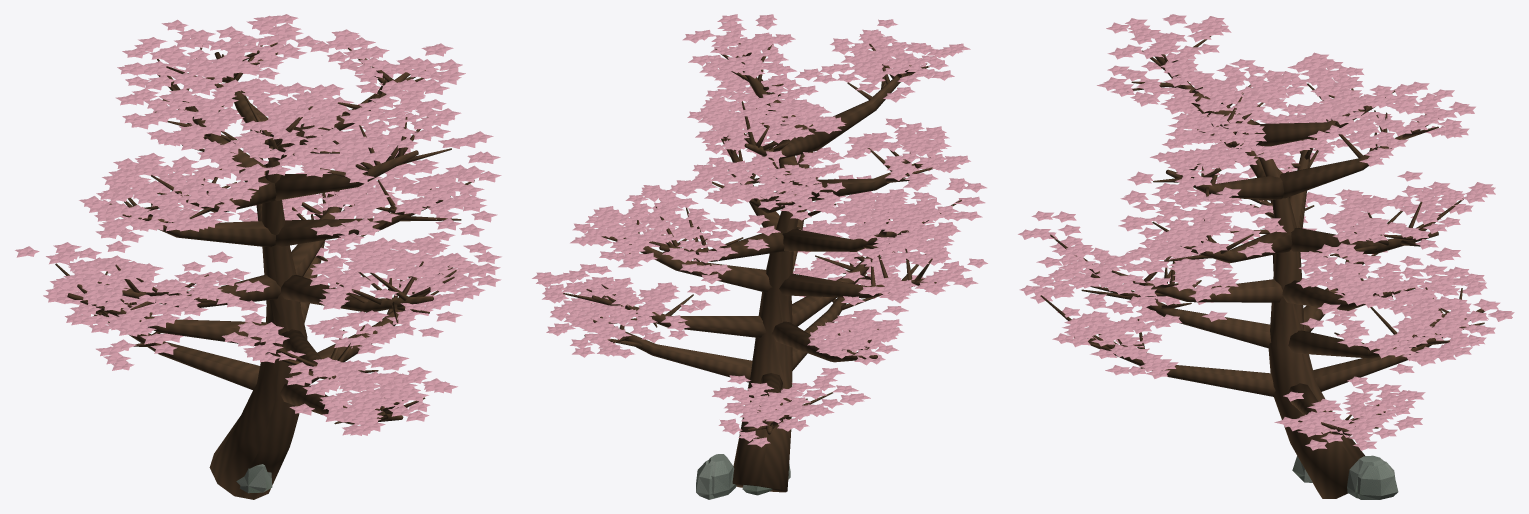
The model's file is v02_peach_1.fbx.
3 views of the same model, side by side, from view 1: azimuth 30°, elevation 25°; view 2: azimuth 150°, elevation 25°; view 3: azimuth 270°, elevation 25° (orthographic). The views are drawn at different scales.
Parts seen in each view (by area): view 1: v02_peach_1.003; view 2: v02_peach_1.003; view 3: v02_peach_1.003.
Boxes of the visible parts, bbox=[...] form: v02_peach_1.003: bbox=[15, 14, 501, 499]; v02_peach_1.003: bbox=[532, 14, 987, 499]; v02_peach_1.003: bbox=[1018, 14, 1514, 499].
Bounding box in the file's own units: 44370 × 41749 × 43337.
